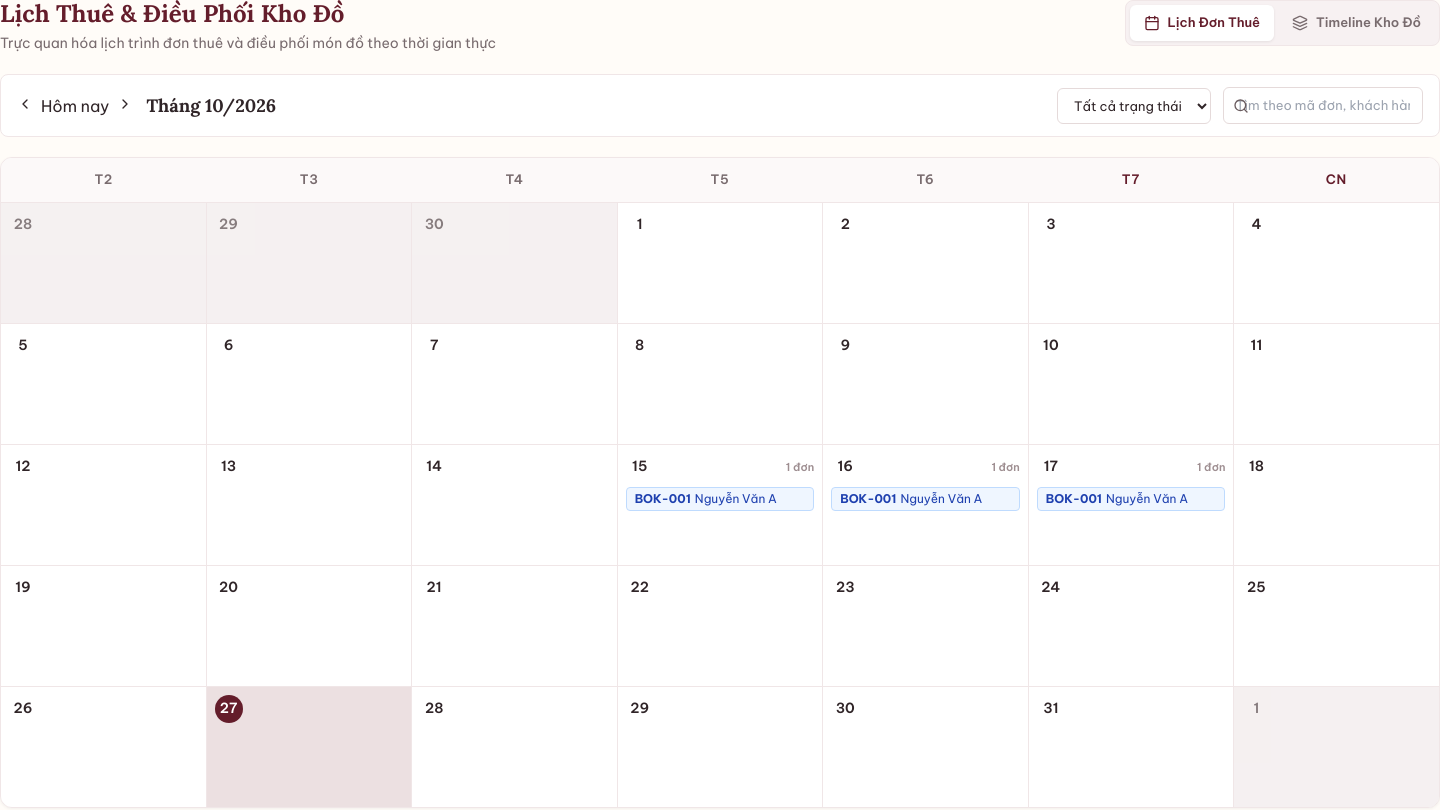
CalendarPage Integration › renders page title and switches between calendar and timeline views
The image size is (1440, 810).
Expected: the text "Lịch Đơn Thuê" is shown, [1168,13,1260,32]
Expected: the text "Timeline Kho Đồ" is shown, [1316,13,1421,32]
# Switch to Timeline view
Click the button "Timeline Kho Đồ" at (1357, 23), box [1278,5,1435,40]
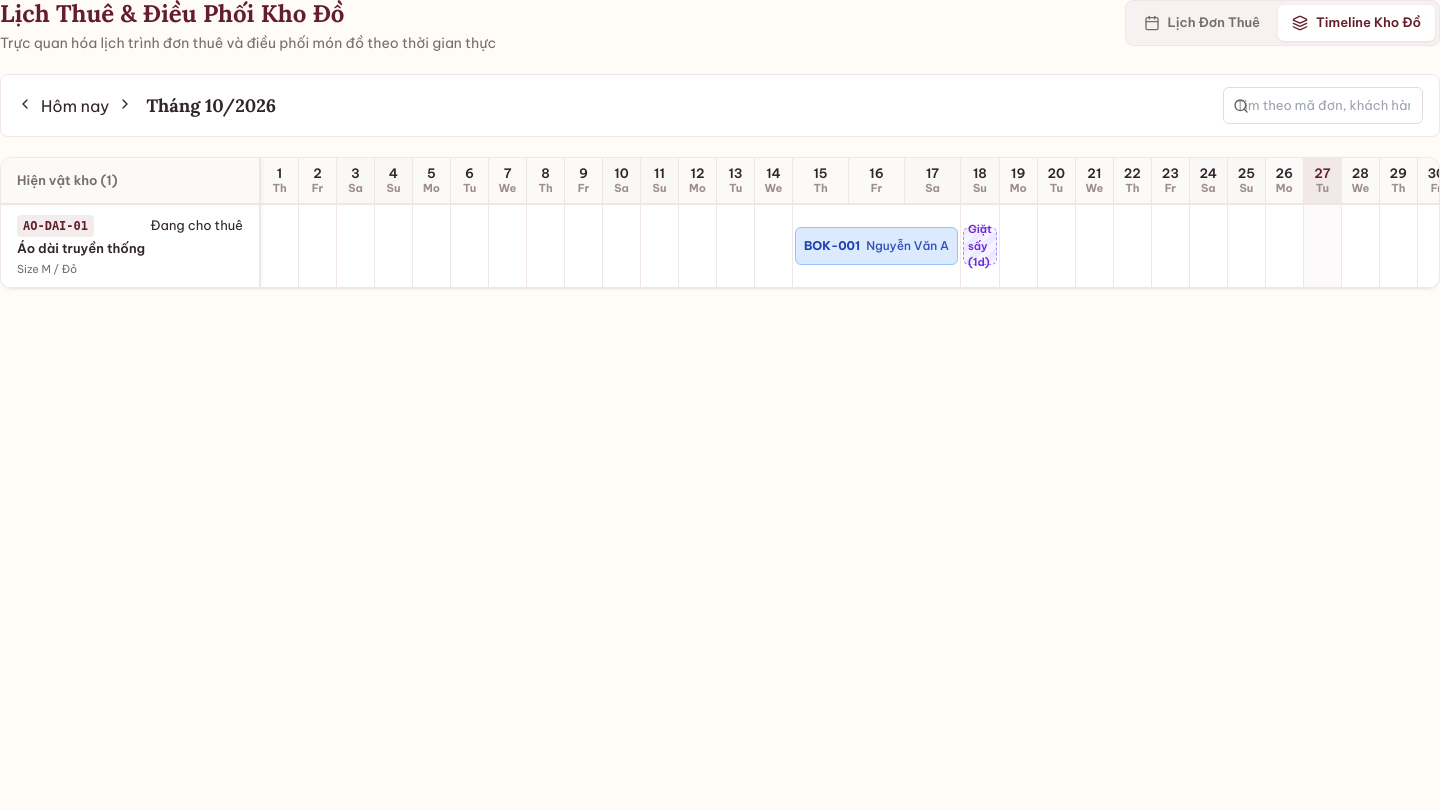
Expected: the text "AO-DAI-01" is shown, [17,215,94,237]
